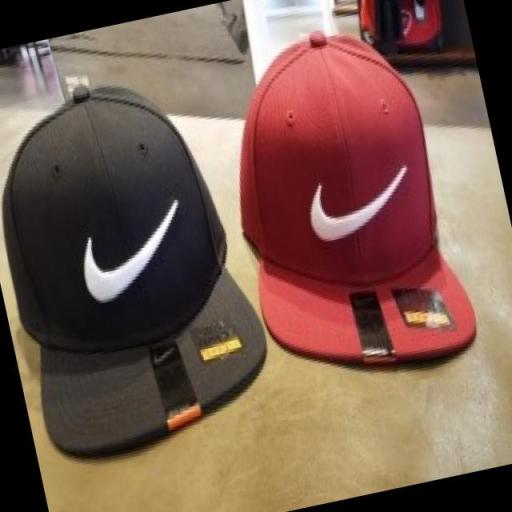Nike: (61, 189, 198, 320)
